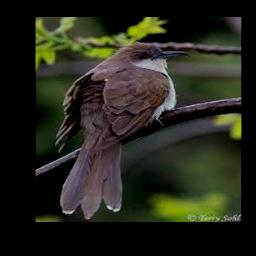Cuckoo: (54, 42, 188, 217)
